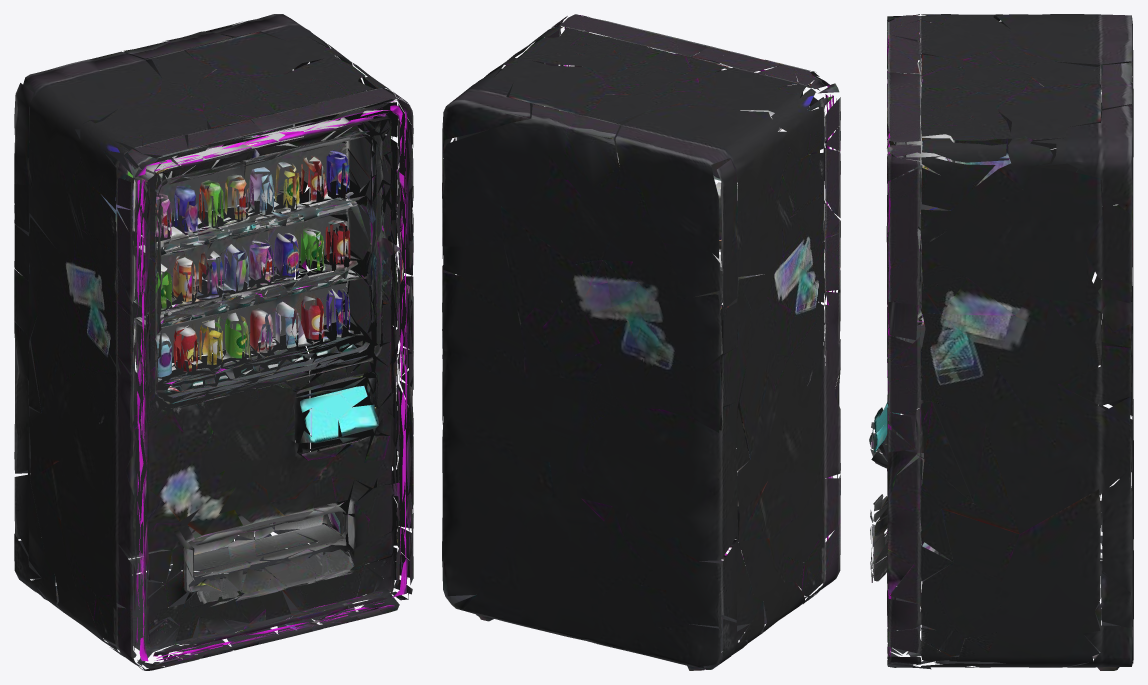
The model's file is vending.glb.
3 renders of one model, left to right at view 1: azimuth 30°, elevation 25°; view 2: azimuth 150°, elevation 25°; view 3: azimuth 270°, elevation 25°, orthographic. The views are drawn at different scales.
Bounding box in the file's own units: 1.07 × 1.9 × 0.847.
Materials: 1 (1 with a texture image).
